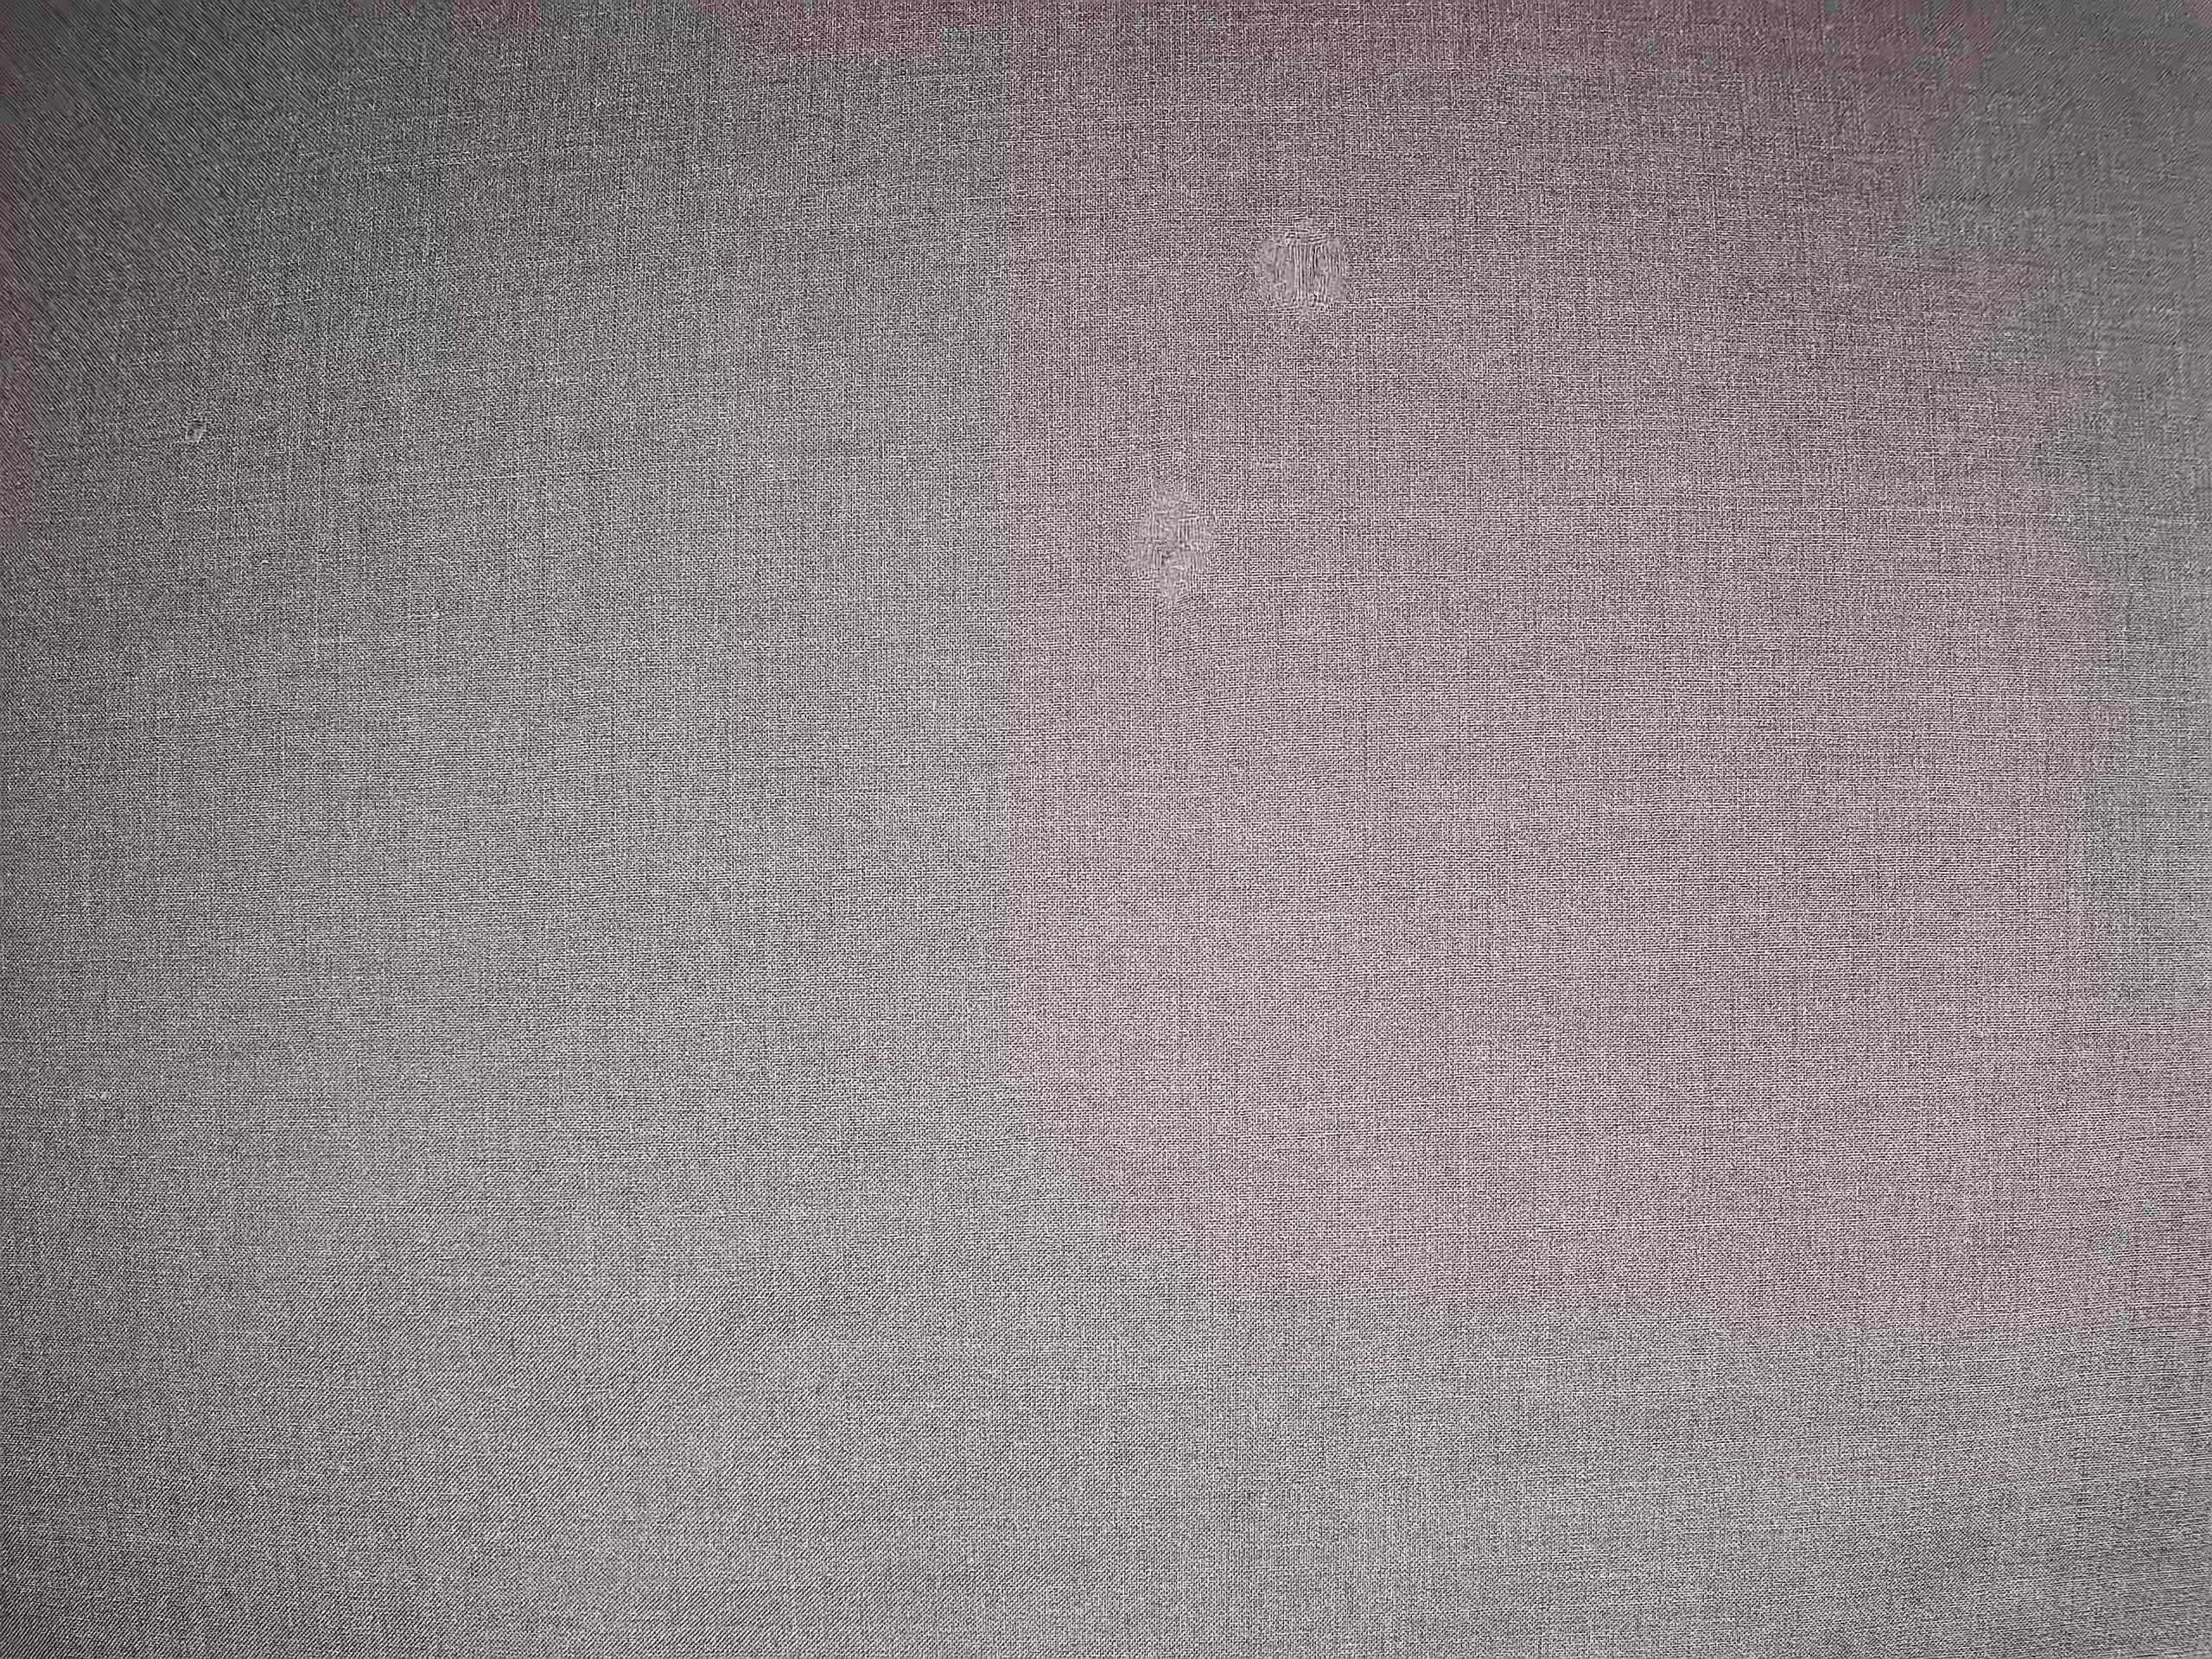rubbing-hole: (1245, 213, 1366, 326), (1116, 486, 1223, 608)
